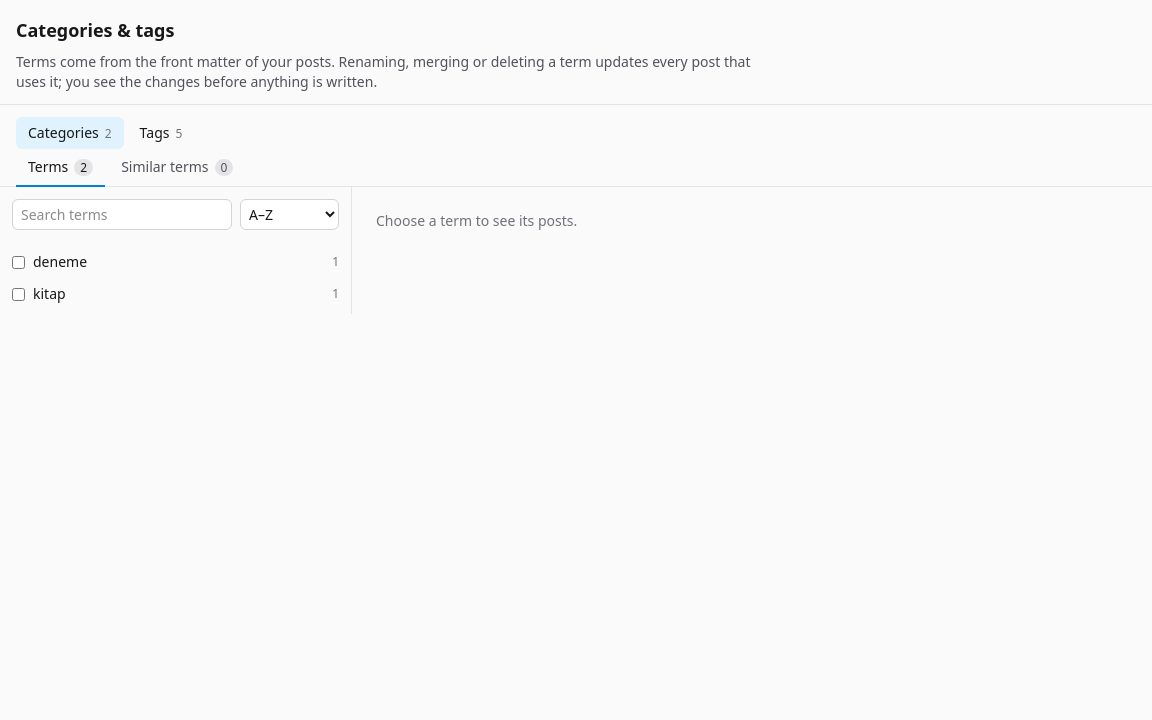
Test: TaxonomiesView › suggests merging similar terms and dedupes when merging
This screenshot has width=1152, height=720.
Click the button "Tags5" at coordinates (161, 133), box [128,117,194,149]
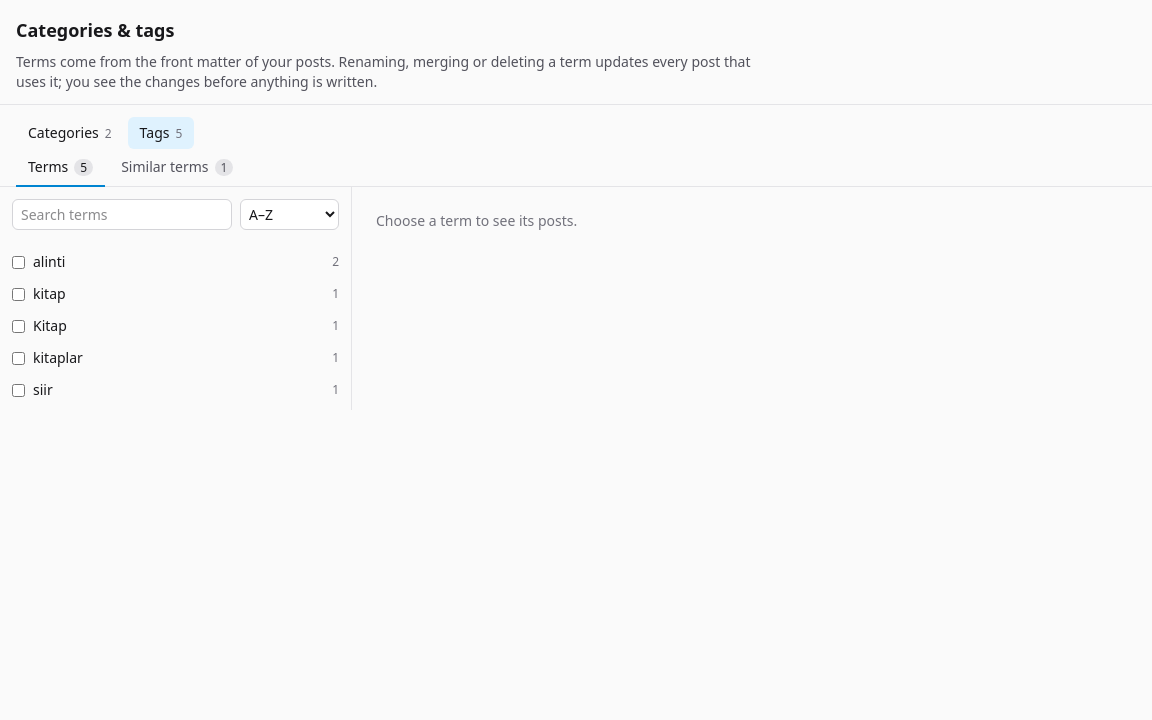
Click the tab "Similar terms1" at coordinates (177, 168), box [109,149,246,187]
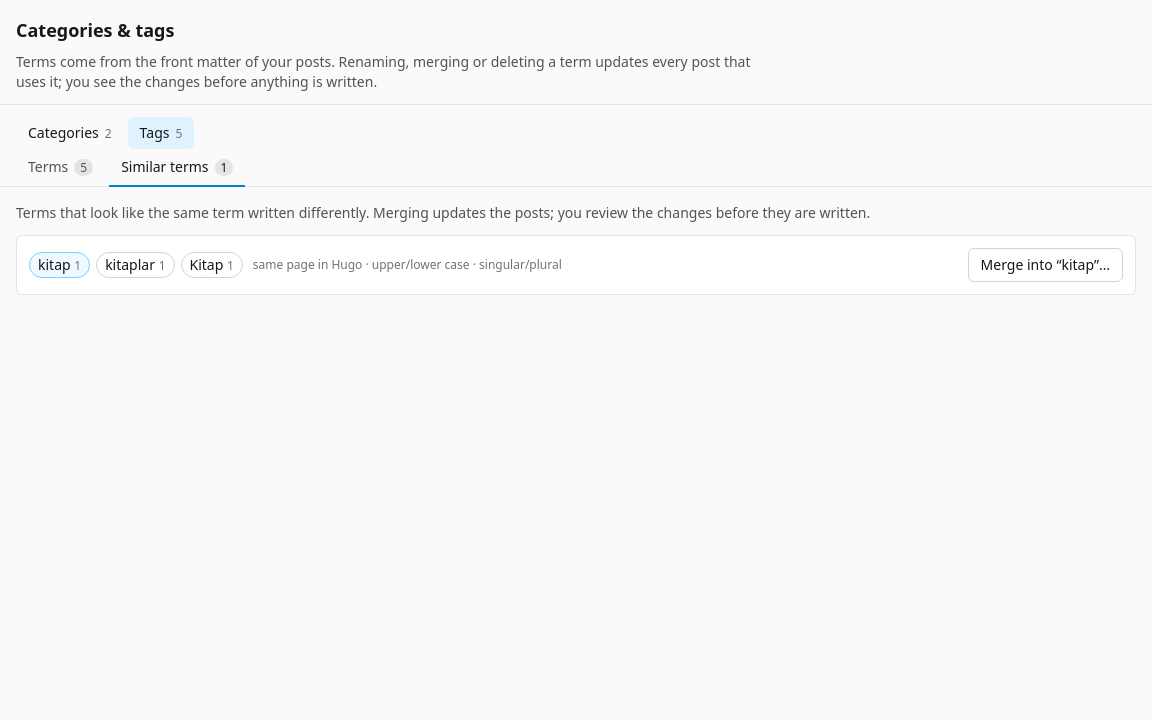
Check: the text "same page in Hugo" is shown, box [253,256,562,273]
Check: the text "singular/plural" is shown, box [253,256,562,273]
Click the button "Merge into “kitap”…" at coordinates (1045, 265), box [968,248,1123,282]
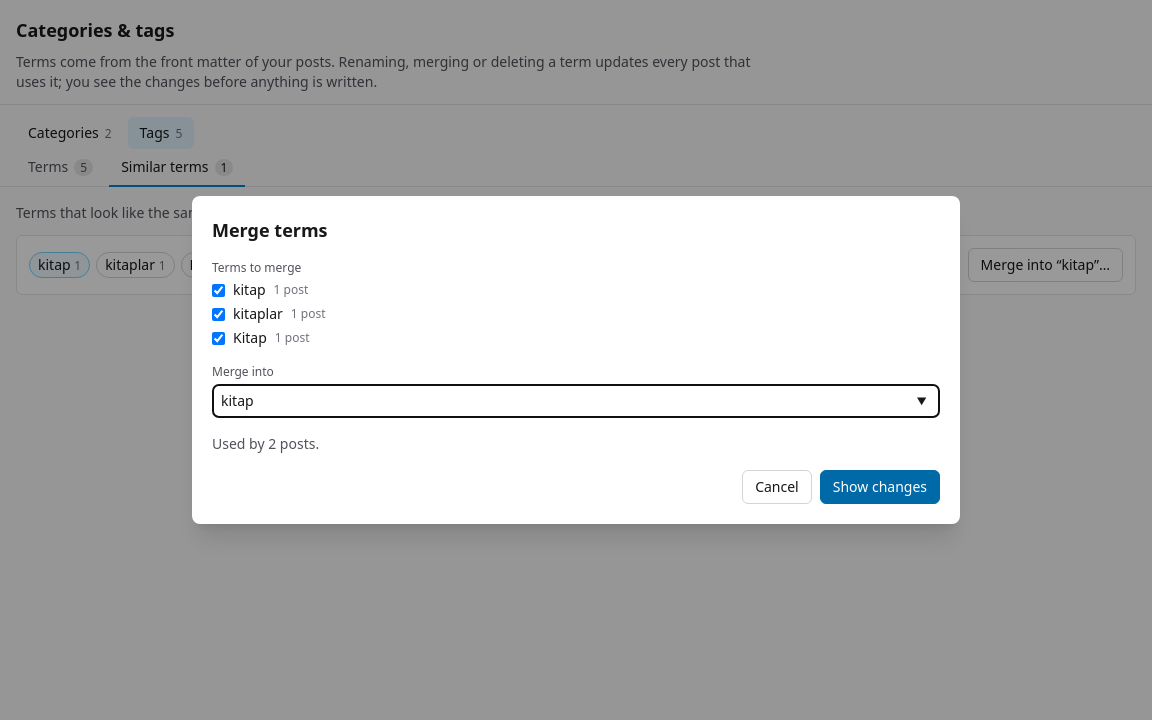
Check: the field labelled "Merge into" holds "kitap", box [212,384,940,418]
Click the button "Show changes" at coordinates (880, 487), box [820,470,940,504]
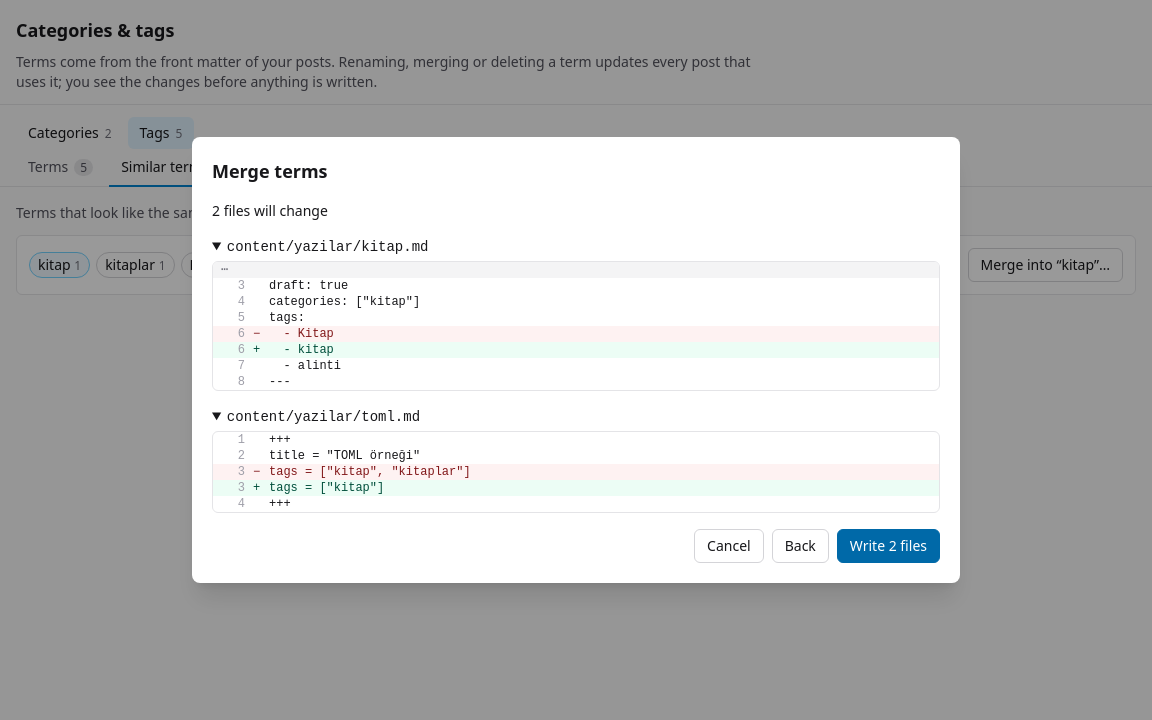
Check: the dialog shows "2 files will change", box [212,201,328,220]
Click the button "Write 2 files" at coordinates (888, 546), box [837,529,940,563]
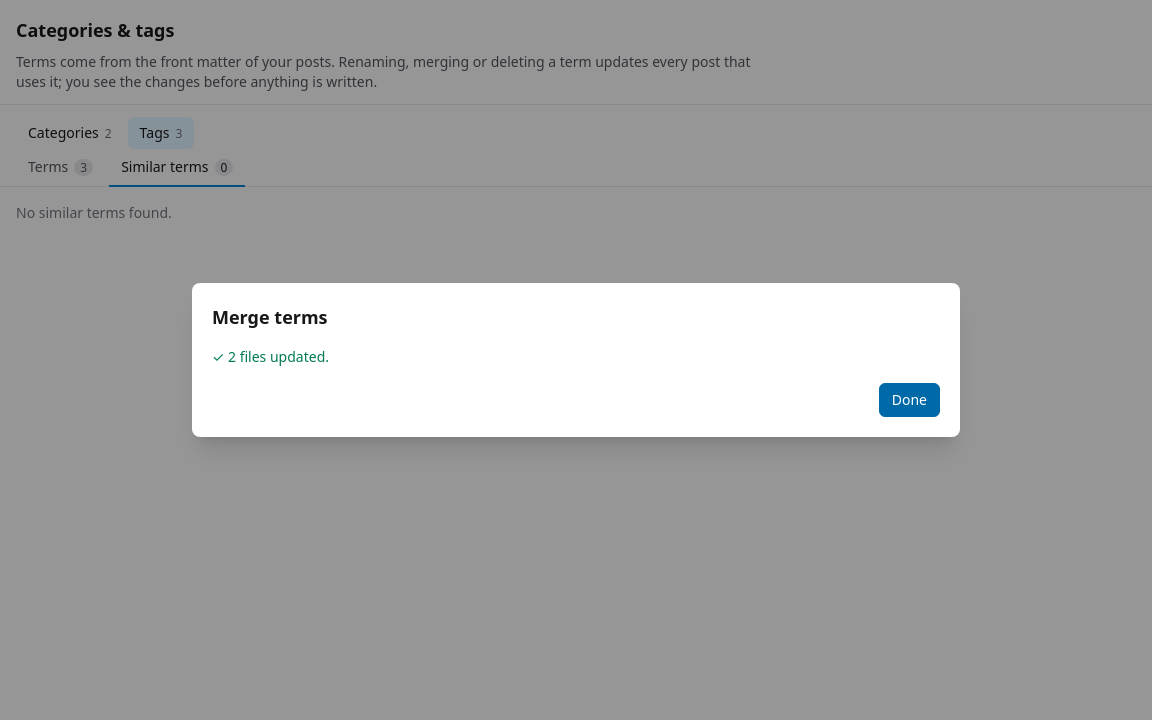
Check: the dialog shows "2 files updated.", box [228,347,329,366]
